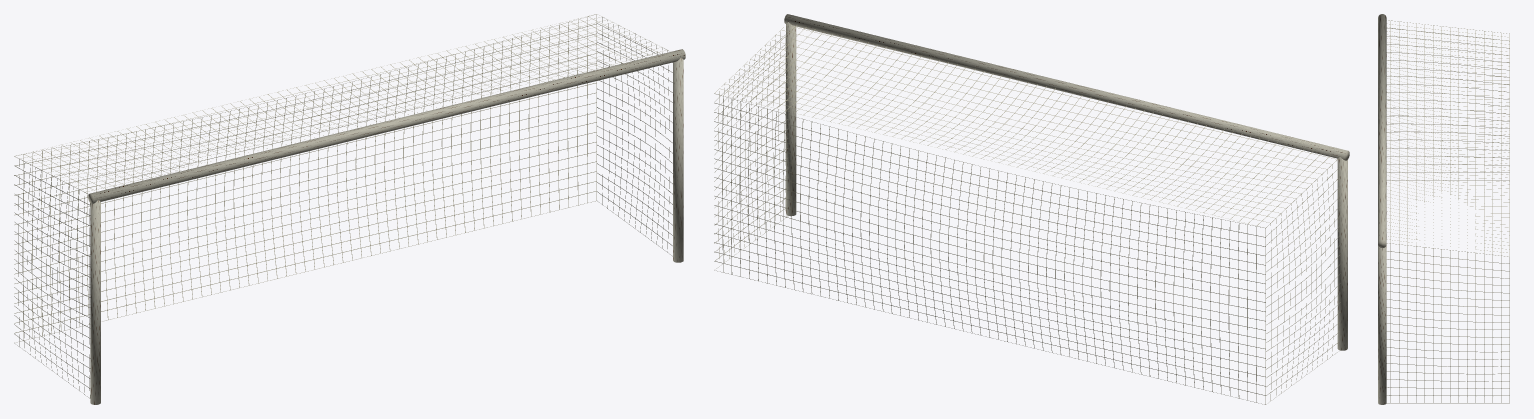
Rendered from park_goal.glb.
3 renders of one model, left to right at view 1: azimuth 30°, elevation 25°; view 2: azimuth 150°, elevation 25°; view 3: azimuth 270°, elevation 25°, orthographic. The views are drawn at different scales.
Visible parts, largest first — view 1: SaggingNet, Crossbar, LeftPost, RightPost; view 2: SaggingNet, Crossbar, RightPost, LeftPost; view 3: SaggingNet, Crossbar, RightPost.
Part boxes in pixels (box(x1,y1,x2,y2)): SaggingNet: box(14, 14, 672, 398); Crossbar: box(88, 49, 685, 203); LeftPost: box(90, 200, 100, 404); RightPost: box(673, 58, 683, 262); SaggingNet: box(714, 23, 1340, 404); Crossbar: box(784, 14, 1349, 160); RightPost: box(786, 22, 796, 216); LeftPost: box(1337, 157, 1347, 350); SaggingNet: box(1386, 20, 1509, 403); Crossbar: box(1378, 14, 1386, 248); RightPost: box(1378, 245, 1386, 404).
Bounding box in the file's own units: 7.58 × 2.56 × 2.
Materials: 2 (2 with a texture image).
